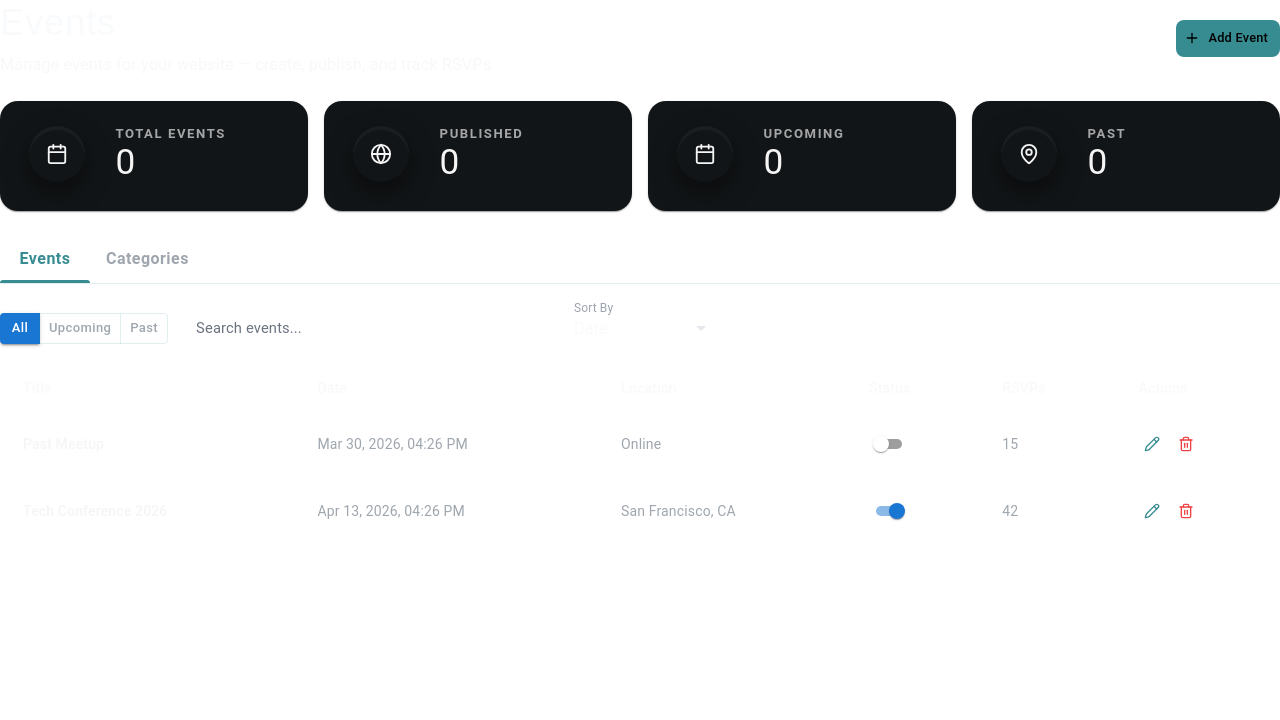
Test: WebsiteManageEvents › shows delete confirmation dialog before deleting an event
Click the 2nd button with class "row-action-button" at (1186, 444), box [1172,431,1198,457]
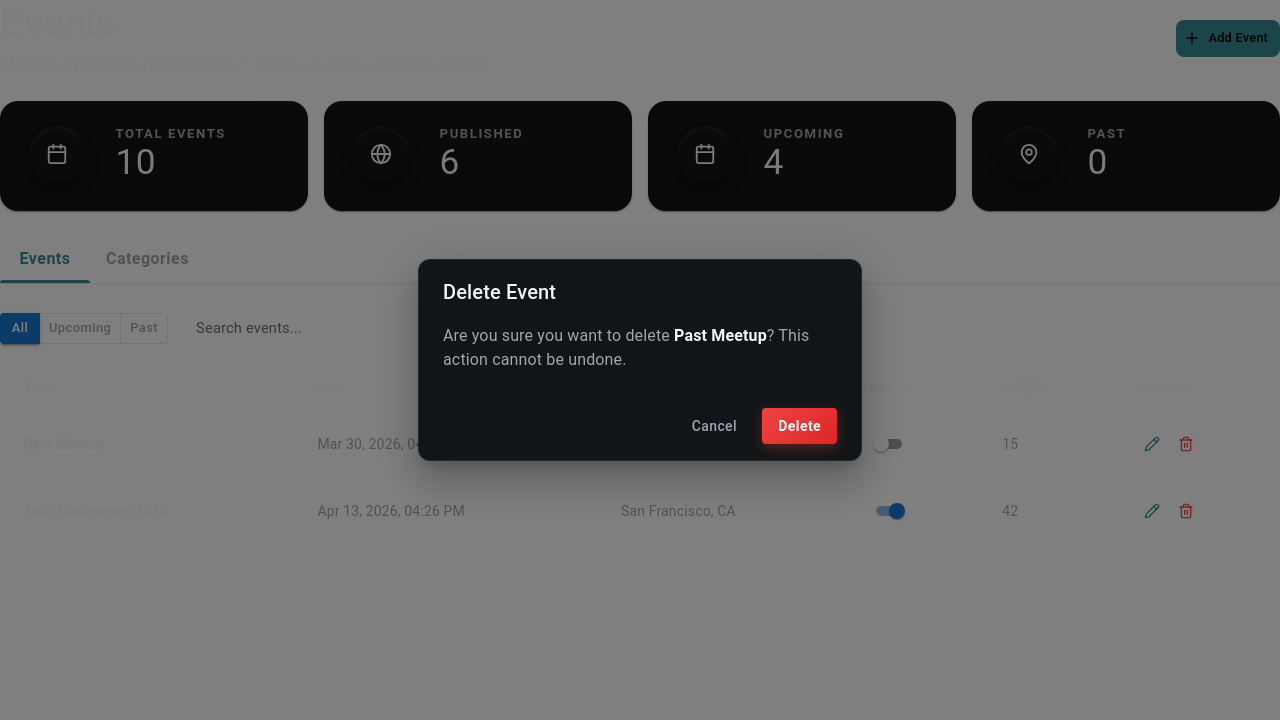
Expected: the dialog is shown, [418,259,862,461]
